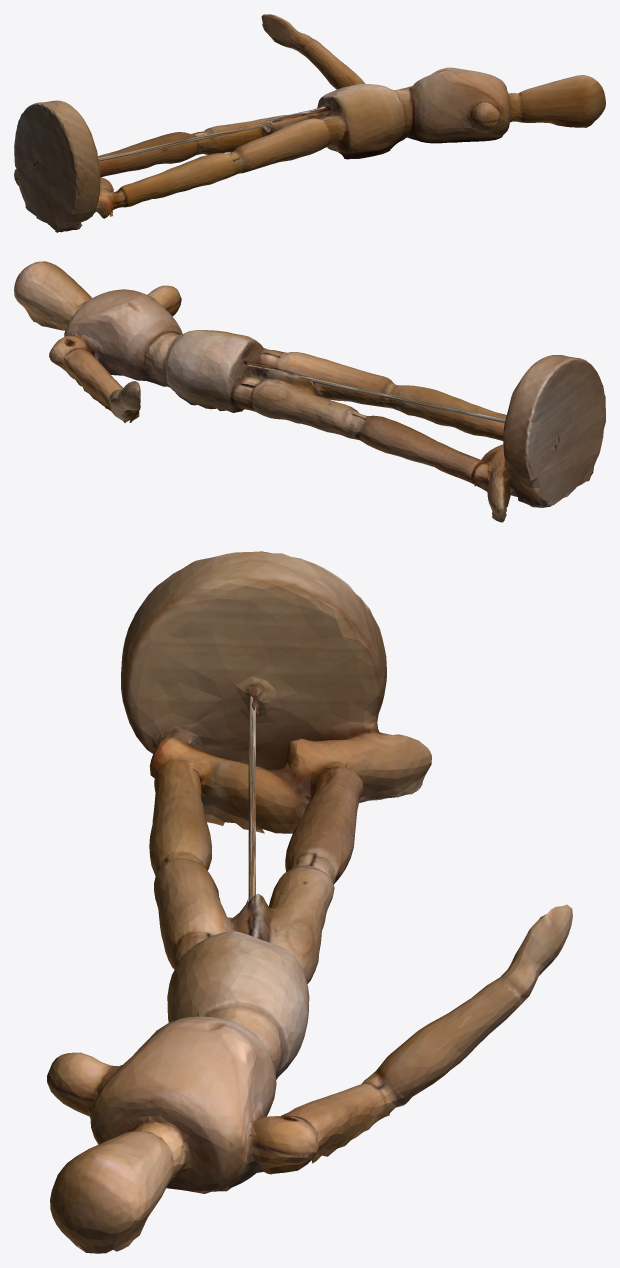
Rendered from figure.fbx.
The picture shows the model from 3 angles, top to bottom: view 1: azimuth 30°, elevation 25°; view 2: azimuth 150°, elevation 25°; view 3: azimuth 270°, elevation 25°; orthographic projection. The views are drawn at different scales.
Parts seen in each view (by area): view 1: Mesh_0; view 2: Mesh_0; view 3: Mesh_0.
Part boxes in pixels (box(x1,y1,x2,y2)): Mesh_0: box(14, 14, 605, 232); Mesh_0: box(14, 261, 605, 522); Mesh_0: box(47, 551, 572, 1253).
Size of the model in its own units: 3390 by 687 by 1475.
1 material, 1 textured.
